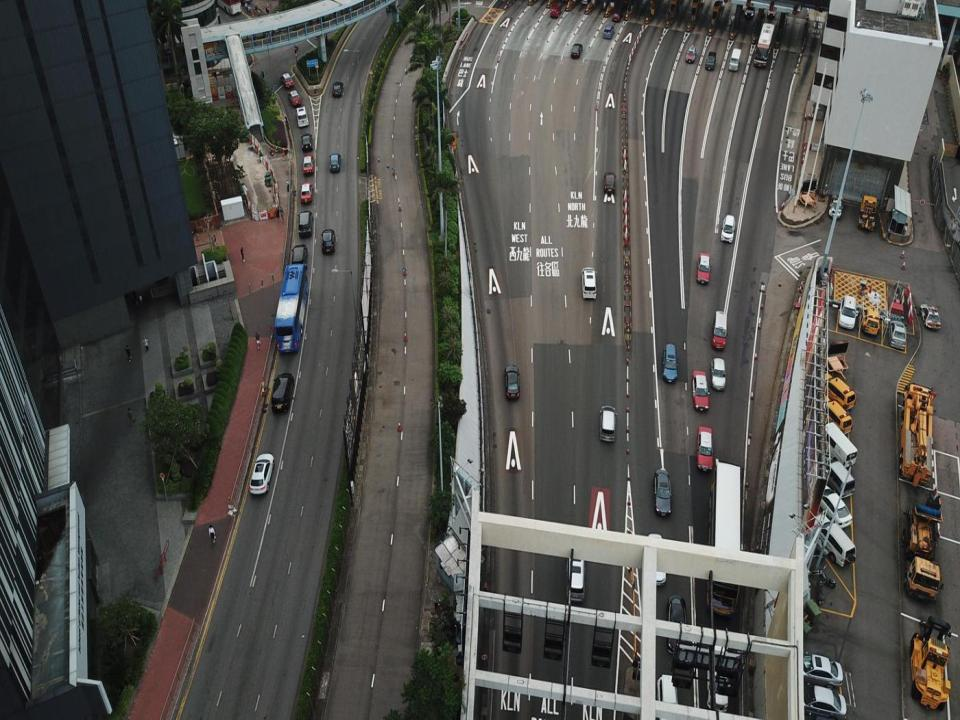bus: (706, 462, 741, 618), (274, 263, 309, 353), (754, 22, 774, 68)
car: (793, 650, 843, 690), (795, 682, 847, 719), (817, 484, 852, 529), (249, 454, 275, 494), (647, 534, 665, 586), (653, 468, 672, 516), (697, 426, 714, 470), (692, 370, 710, 410), (888, 319, 907, 349), (919, 303, 940, 330), (504, 366, 520, 398), (710, 358, 726, 390), (696, 252, 711, 283), (828, 194, 844, 218), (321, 229, 335, 253), (300, 182, 313, 204), (603, 172, 616, 193), (287, 89, 302, 107), (328, 153, 341, 172), (302, 154, 314, 174), (280, 72, 293, 89), (300, 133, 312, 151), (685, 45, 697, 63), (332, 82, 344, 97), (745, 2, 755, 19), (550, 4, 562, 18), (571, 43, 582, 58), (767, 1, 776, 19), (612, 10, 622, 23)
truck: (901, 485, 943, 603), (900, 383, 936, 487), (857, 193, 879, 232)
van: (812, 514, 856, 568), (819, 421, 857, 468), (706, 644, 730, 709), (816, 395, 852, 436), (821, 456, 854, 499), (821, 372, 856, 411), (666, 596, 688, 655), (565, 545, 586, 602), (655, 674, 679, 719), (271, 373, 294, 412), (838, 295, 858, 329), (711, 312, 728, 350), (662, 343, 678, 383), (599, 406, 617, 441), (861, 307, 879, 335), (582, 268, 597, 298), (297, 211, 313, 238), (291, 245, 308, 269), (721, 215, 735, 243), (728, 48, 741, 72), (295, 105, 308, 127), (705, 51, 716, 71), (602, 25, 614, 39)
